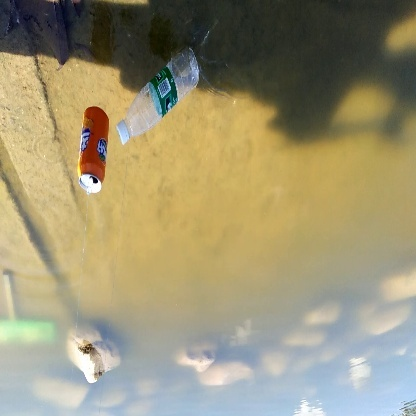bottle: (115, 49, 201, 145)
